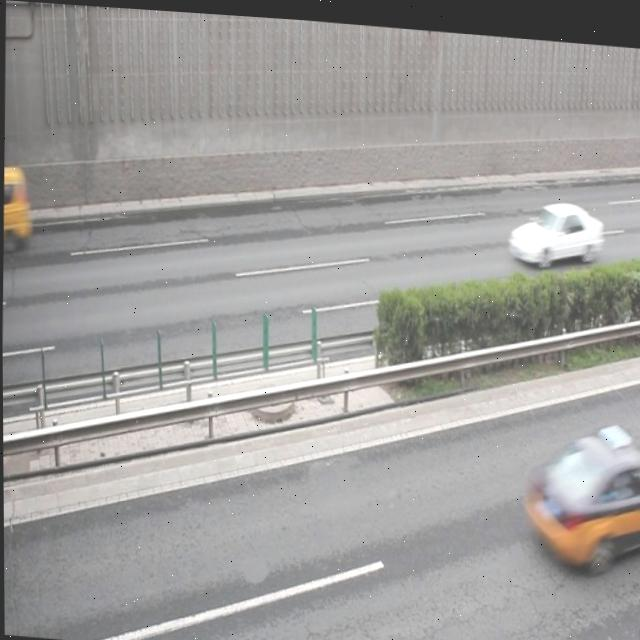car: (524, 411, 640, 565), (506, 189, 600, 262)
truck: (2, 164, 29, 257)
